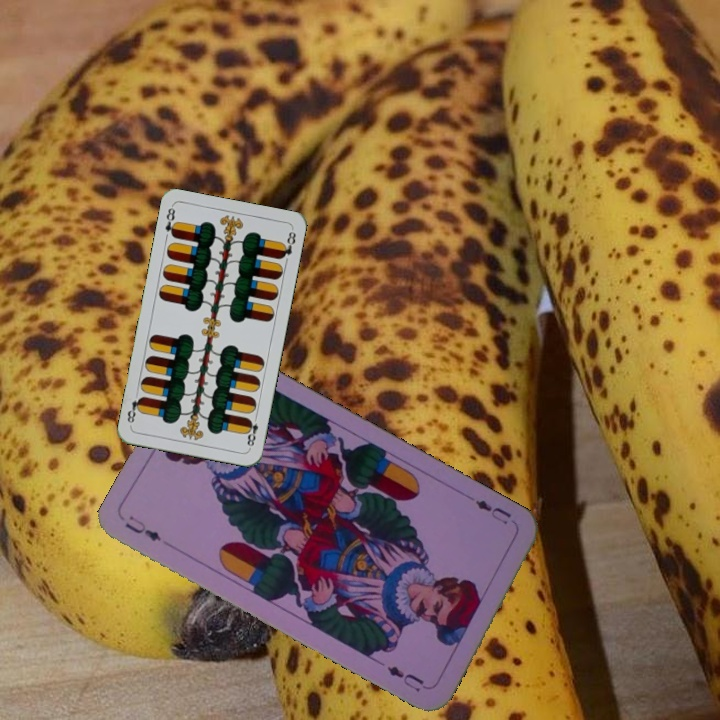E8: (242, 411, 261, 451), (161, 202, 180, 240)
EU: (120, 511, 164, 544), (471, 495, 514, 527)
